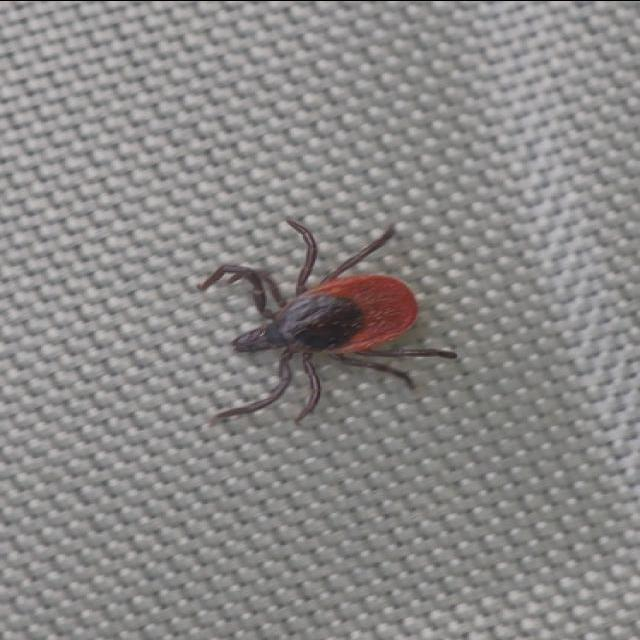Ixodes Ricinus-F: (200, 219, 459, 425)
